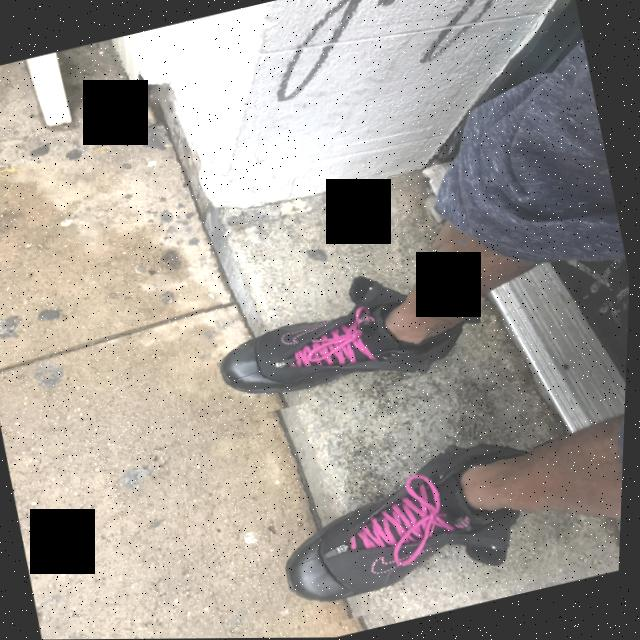shoe: (265, 405, 568, 631), (186, 226, 495, 425)
